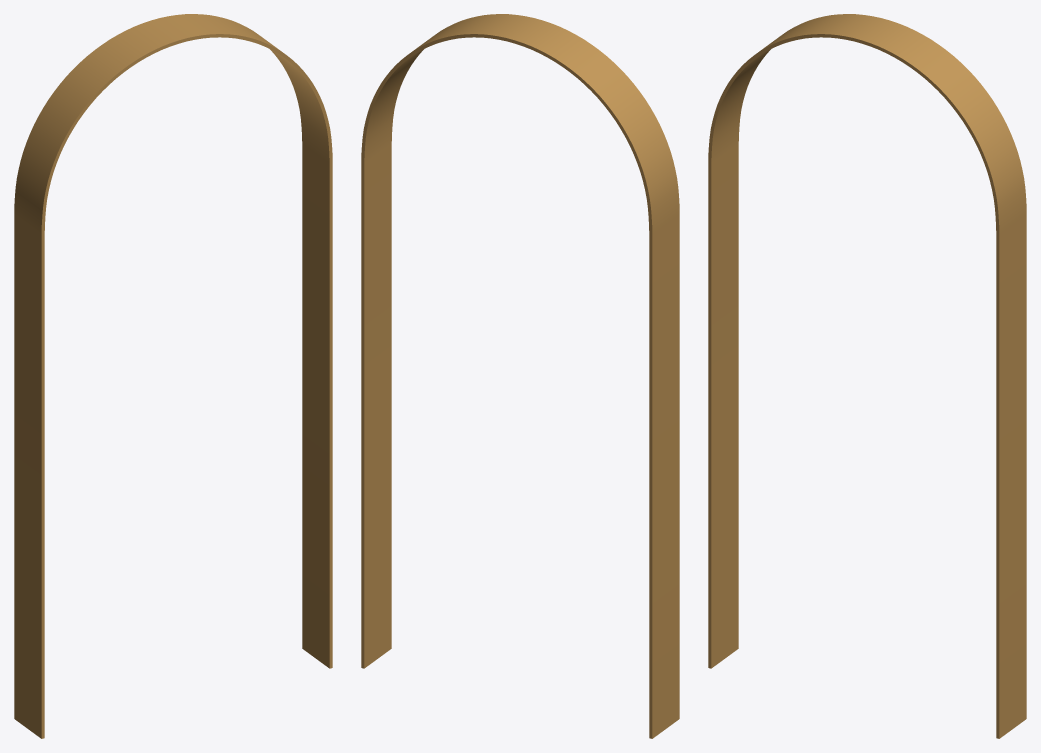
The model's file is C_door_frame_reinvigorate_updated.glb.
3 views of the same model, side by side, from view 1: azimuth 30°, elevation 25°; view 2: azimuth 150°, elevation 25°; view 3: azimuth 330°, elevation 25° (orthographic).
Parts seen in each view (by area): view 1: door_frame_C; view 2: door_frame_C; view 3: door_frame_C.
Boxes of the visible parts, bbox=[...] form: door_frame_C: bbox=[14, 14, 332, 738]; door_frame_C: bbox=[361, 14, 679, 738]; door_frame_C: bbox=[708, 14, 1026, 738].
Bounding box in the file's own units: 0.92 × 2.01 × 0.15.
